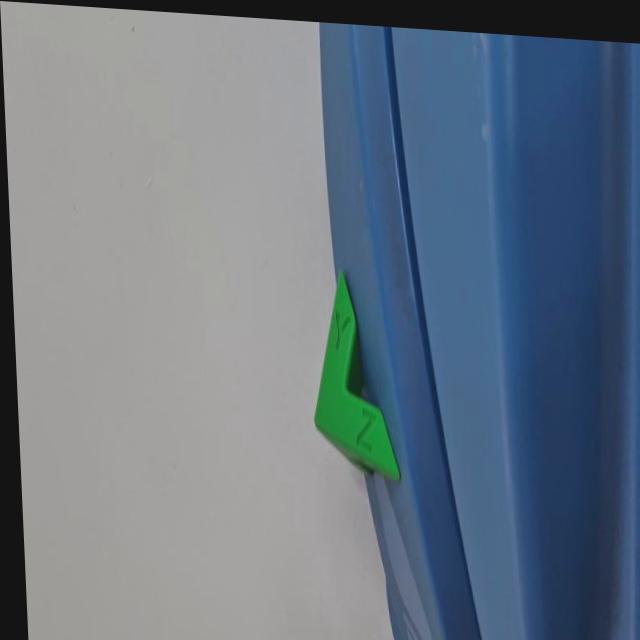eje: (305, 264, 403, 486)
